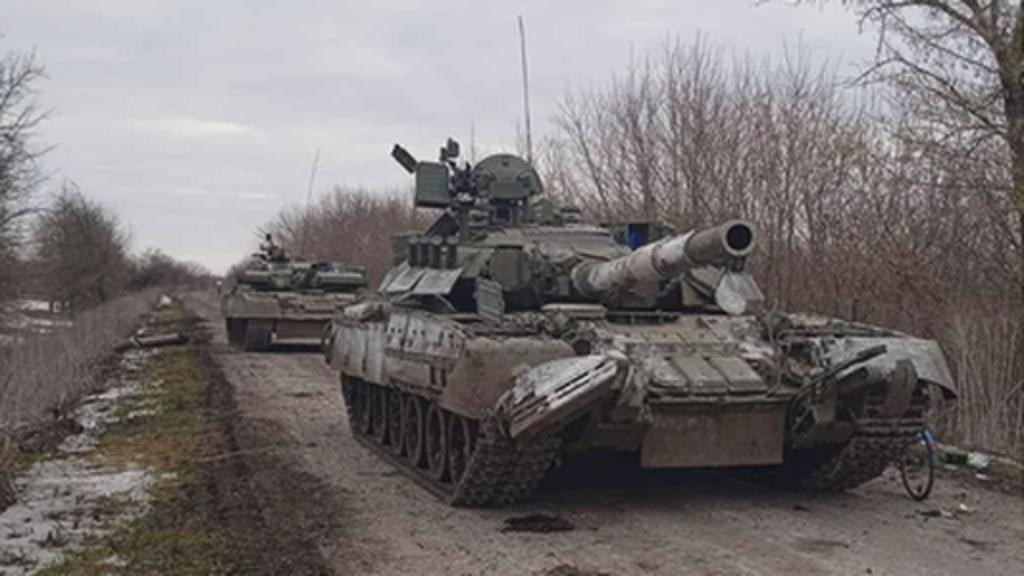TANK: (326, 142, 936, 518), (216, 242, 372, 350)
